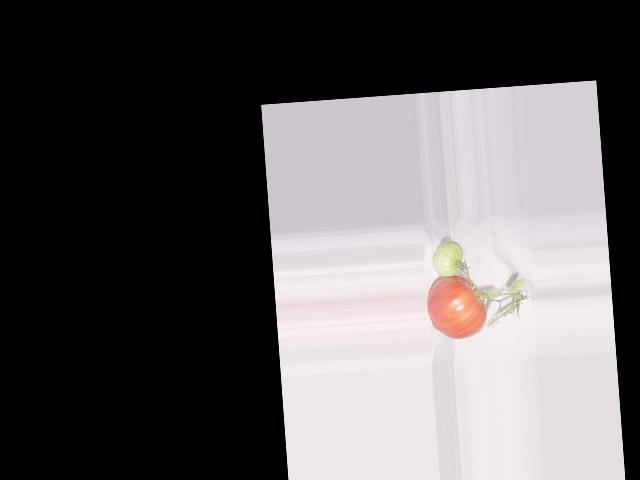tomato: (425, 273, 488, 341)
